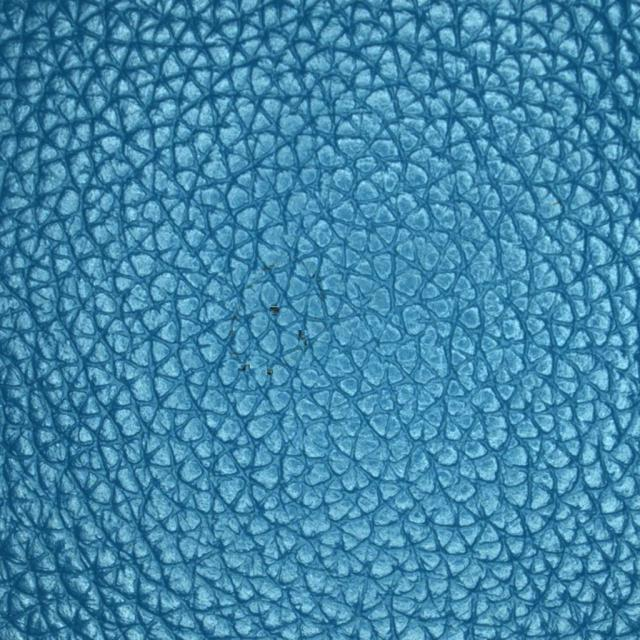pinhole: (204, 243, 352, 412)
